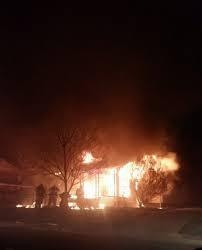fire: (64, 148, 177, 210), (15, 198, 41, 210)
